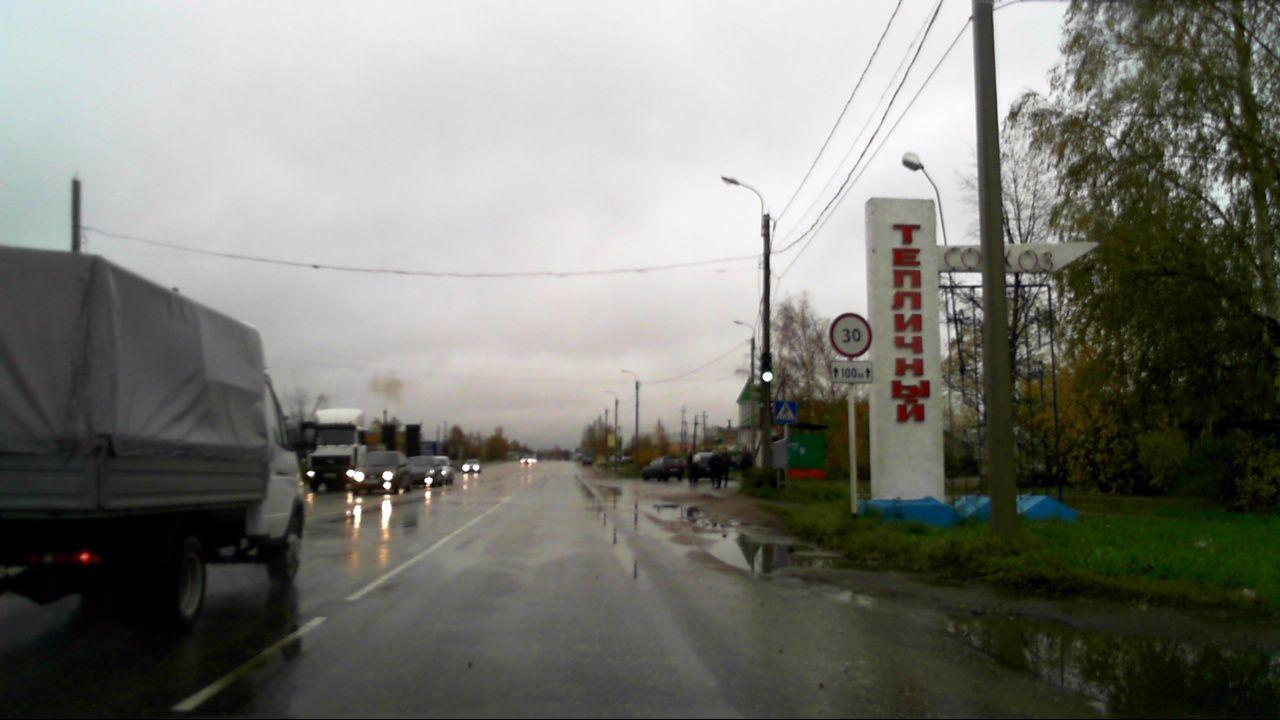road_sign: (829, 311, 874, 360), (829, 358, 875, 385), (772, 399, 799, 426)
